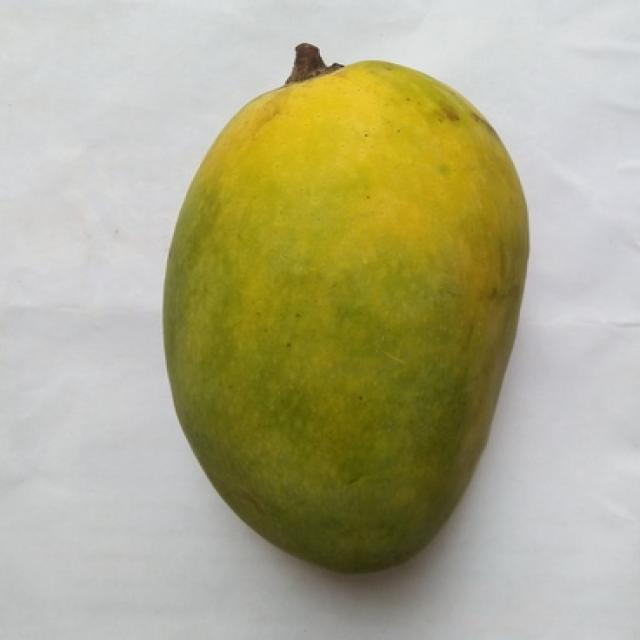Mango: (163, 57, 527, 570)
